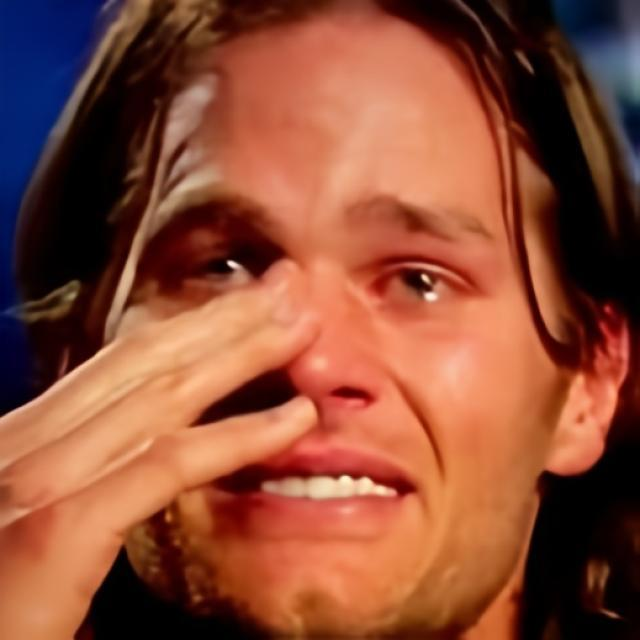sad: (101, 8, 554, 640)
